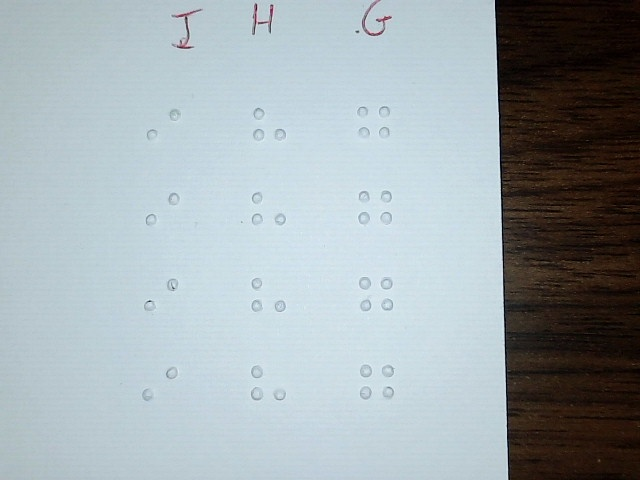G: (356, 94, 394, 163), (357, 179, 395, 248), (357, 266, 395, 335), (358, 355, 396, 424)
H: (251, 96, 289, 165), (250, 181, 288, 250), (249, 266, 287, 335), (250, 355, 288, 424)
I: (145, 97, 183, 166), (144, 181, 182, 250), (141, 355, 179, 424)
